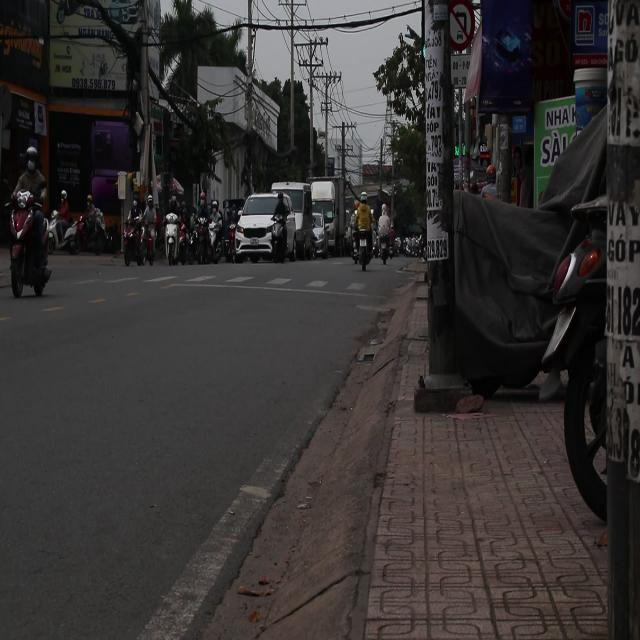car: (233, 191, 314, 269)
motorbike: (6, 190, 52, 300), (68, 212, 124, 257), (118, 203, 152, 268), (186, 212, 218, 267), (44, 208, 76, 257), (267, 200, 289, 267), (353, 228, 377, 272), (163, 217, 180, 265)
truck: (270, 182, 326, 264), (306, 179, 354, 255)
